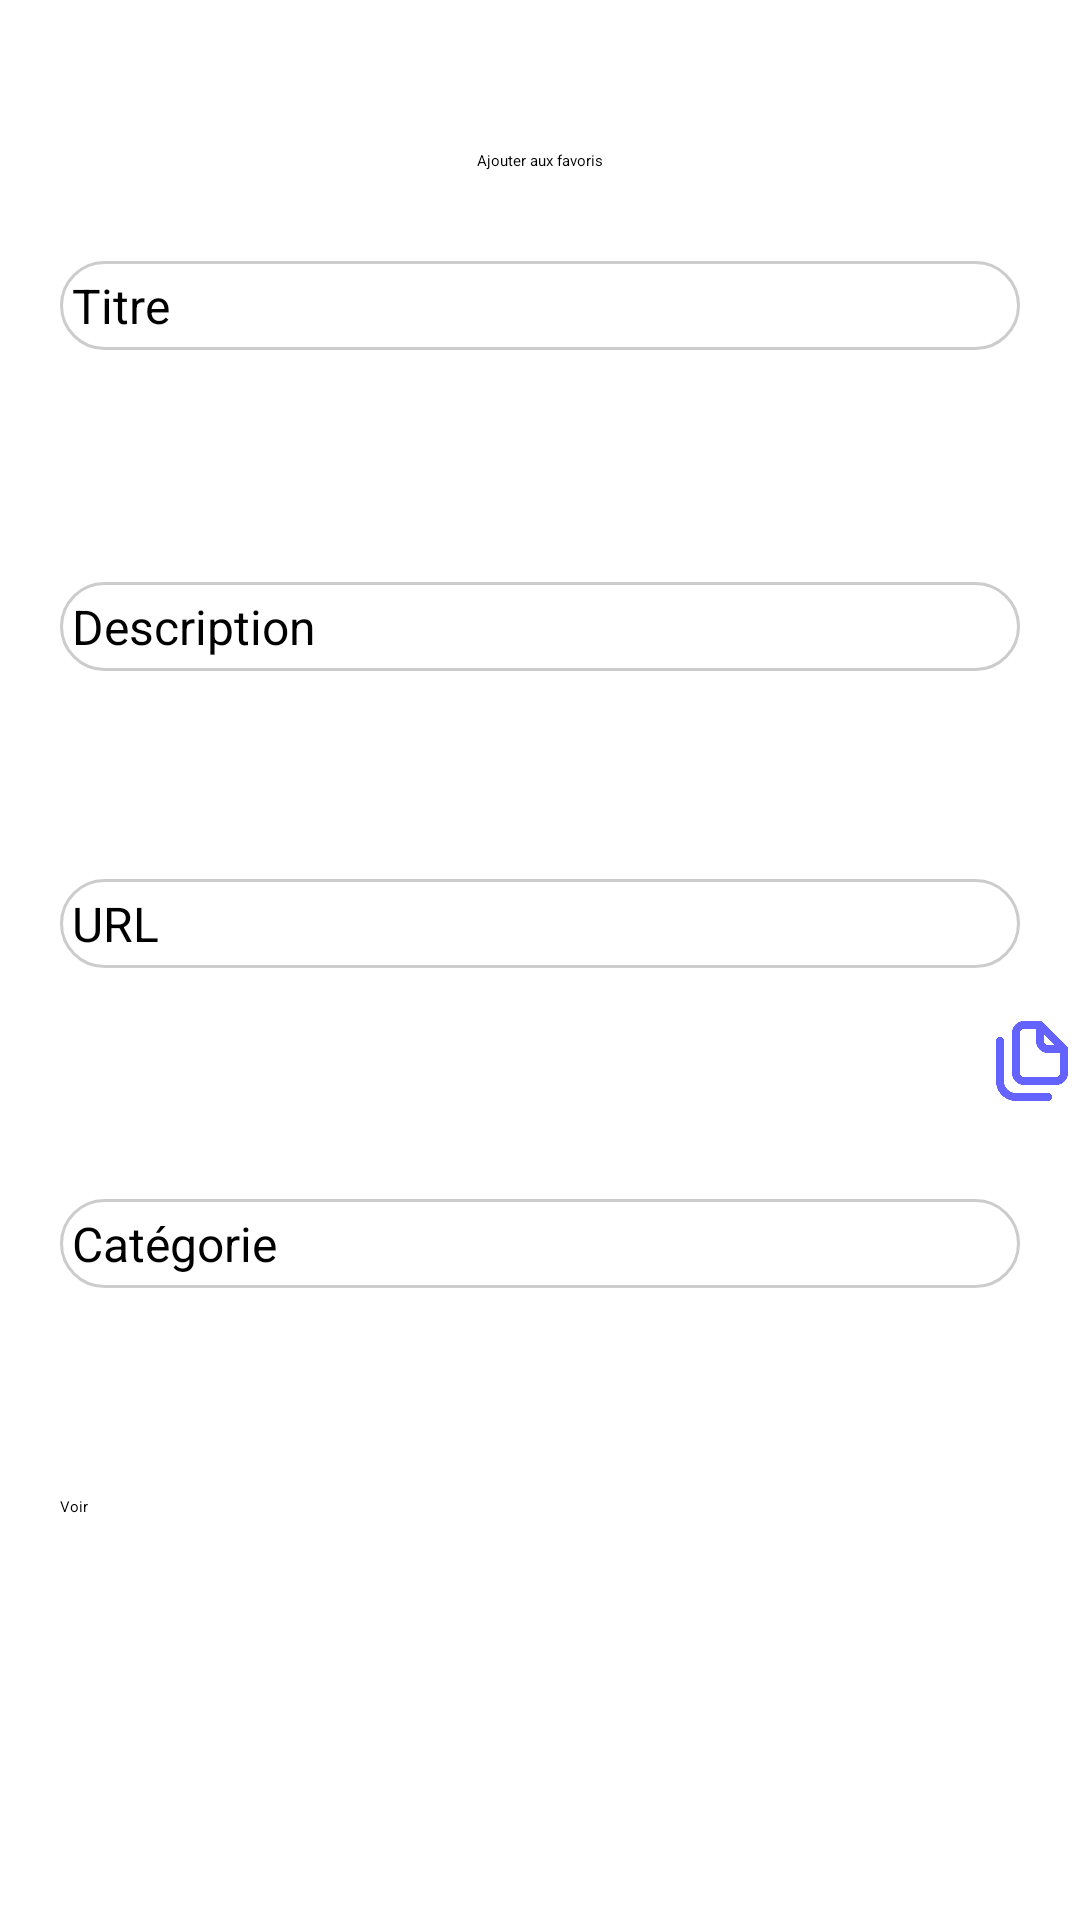

Named icons in this screenshot (1080*1920) and their centers, [x,y]:
Copy URL: [1032,1061]
